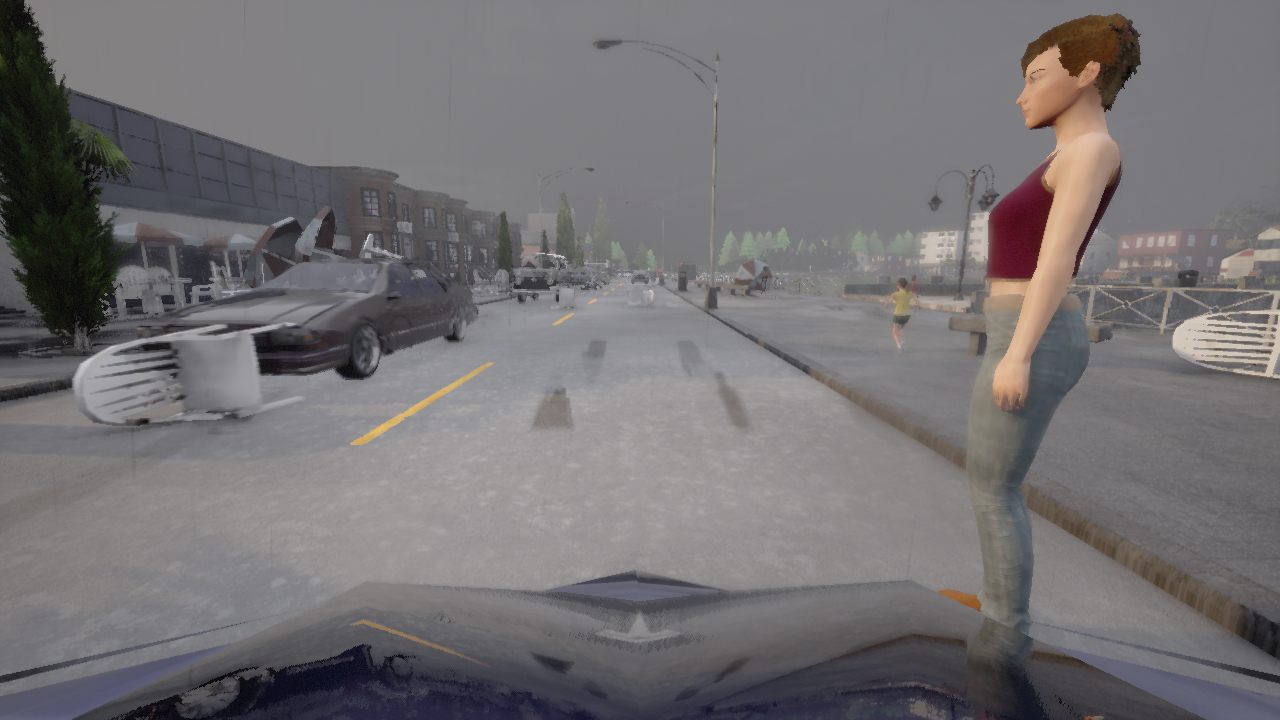cyclist: (0, 569, 1279, 719), (134, 259, 478, 379), (510, 253, 570, 303), (570, 266, 602, 290), (585, 260, 611, 286), (632, 270, 647, 282)
pedestrian: (937, 15, 1139, 634), (881, 277, 918, 353), (909, 275, 921, 315), (760, 259, 769, 294)
